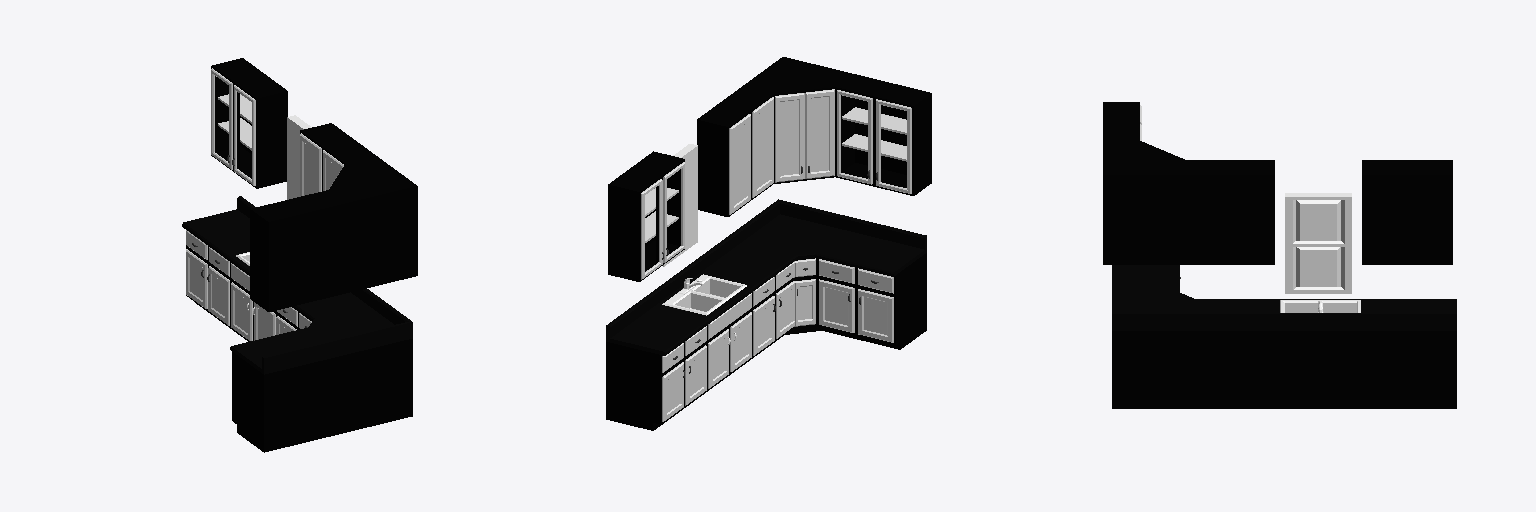
Rendered from Bathroom-Counter.obj.
3 renders of one model, left to right at view 1: azimuth 30°, elevation 25°; view 2: azimuth 150°, elevation 25°; view 3: azimuth 270°, elevation 25°, orthographic.
Parts seen in each view (by area): view 1: mergedBlocks; view 2: mergedBlocks; view 3: mergedBlocks.
Boxes of the visible parts, <box> form: mergedBlocks: <box>182,58,417,452</box>; mergedBlocks: <box>606,57,931,430</box>; mergedBlocks: <box>1103,102,1456,408</box>.
Size of the model in its own units: 1.93 by 2.85 by 3.9.